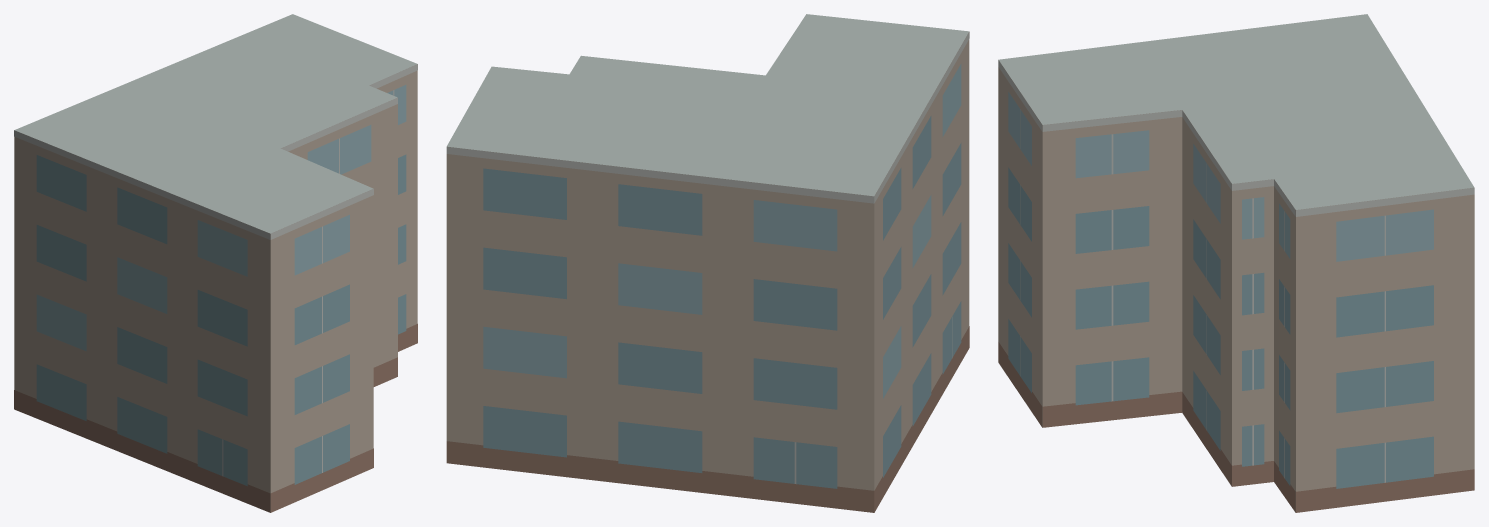
The model's file is survey-upis-32898916.glb.
The picture shows the model from 3 angles, left to right: view 1: azimuth 30°, elevation 25°; view 2: azimuth 150°, elevation 25°; view 3: azimuth 270°, elevation 25°; orthographic projection. The views are drawn at different scales.
Parts seen in each view (by area): view 1: survey-upis-32898916.tmp; view 2: survey-upis-32898916.tmp; view 3: survey-upis-32898916.tmp.
Boxes of the visible parts, box(x1,y1,x2,y2) form: survey-upis-32898916.tmp: box(14, 14, 417, 512); survey-upis-32898916.tmp: box(446, 14, 969, 512); survey-upis-32898916.tmp: box(998, 14, 1474, 512).
Bounding box in the file's own units: 14.73 × 10.6 × 15.12.
